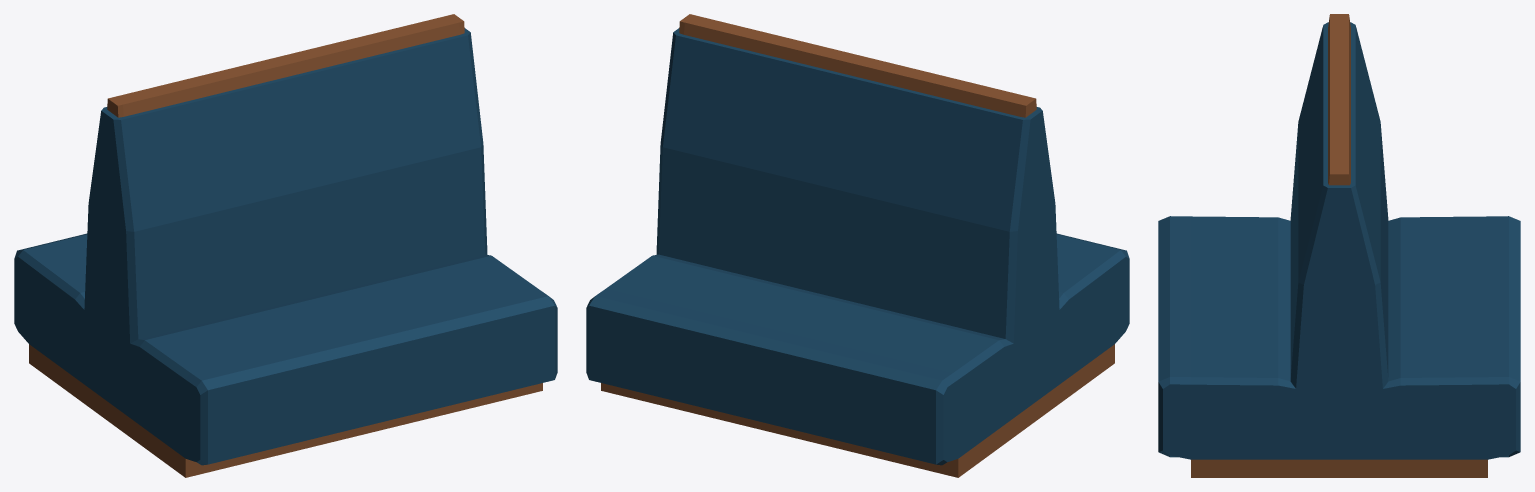
The model's file is booth_seat2.fbx.
3 renders of one model, left to right at view 1: azimuth 30°, elevation 25°; view 2: azimuth 150°, elevation 25°; view 3: azimuth 270°, elevation 25°, orthographic. The views are drawn at different scales.
Parts seen in each view (by area): view 1: Cube; view 2: Cube; view 3: Cube.
Part boxes in pixels (x1=…): Cube: x1=14, y1=14, x2=557, y2=477; Cube: x1=586, y1=14, x2=1129, y2=477; Cube: x1=1158, y1=14, x2=1520, y2=477.
Bounding box in the file's own units: 462 × 392 × 428.
